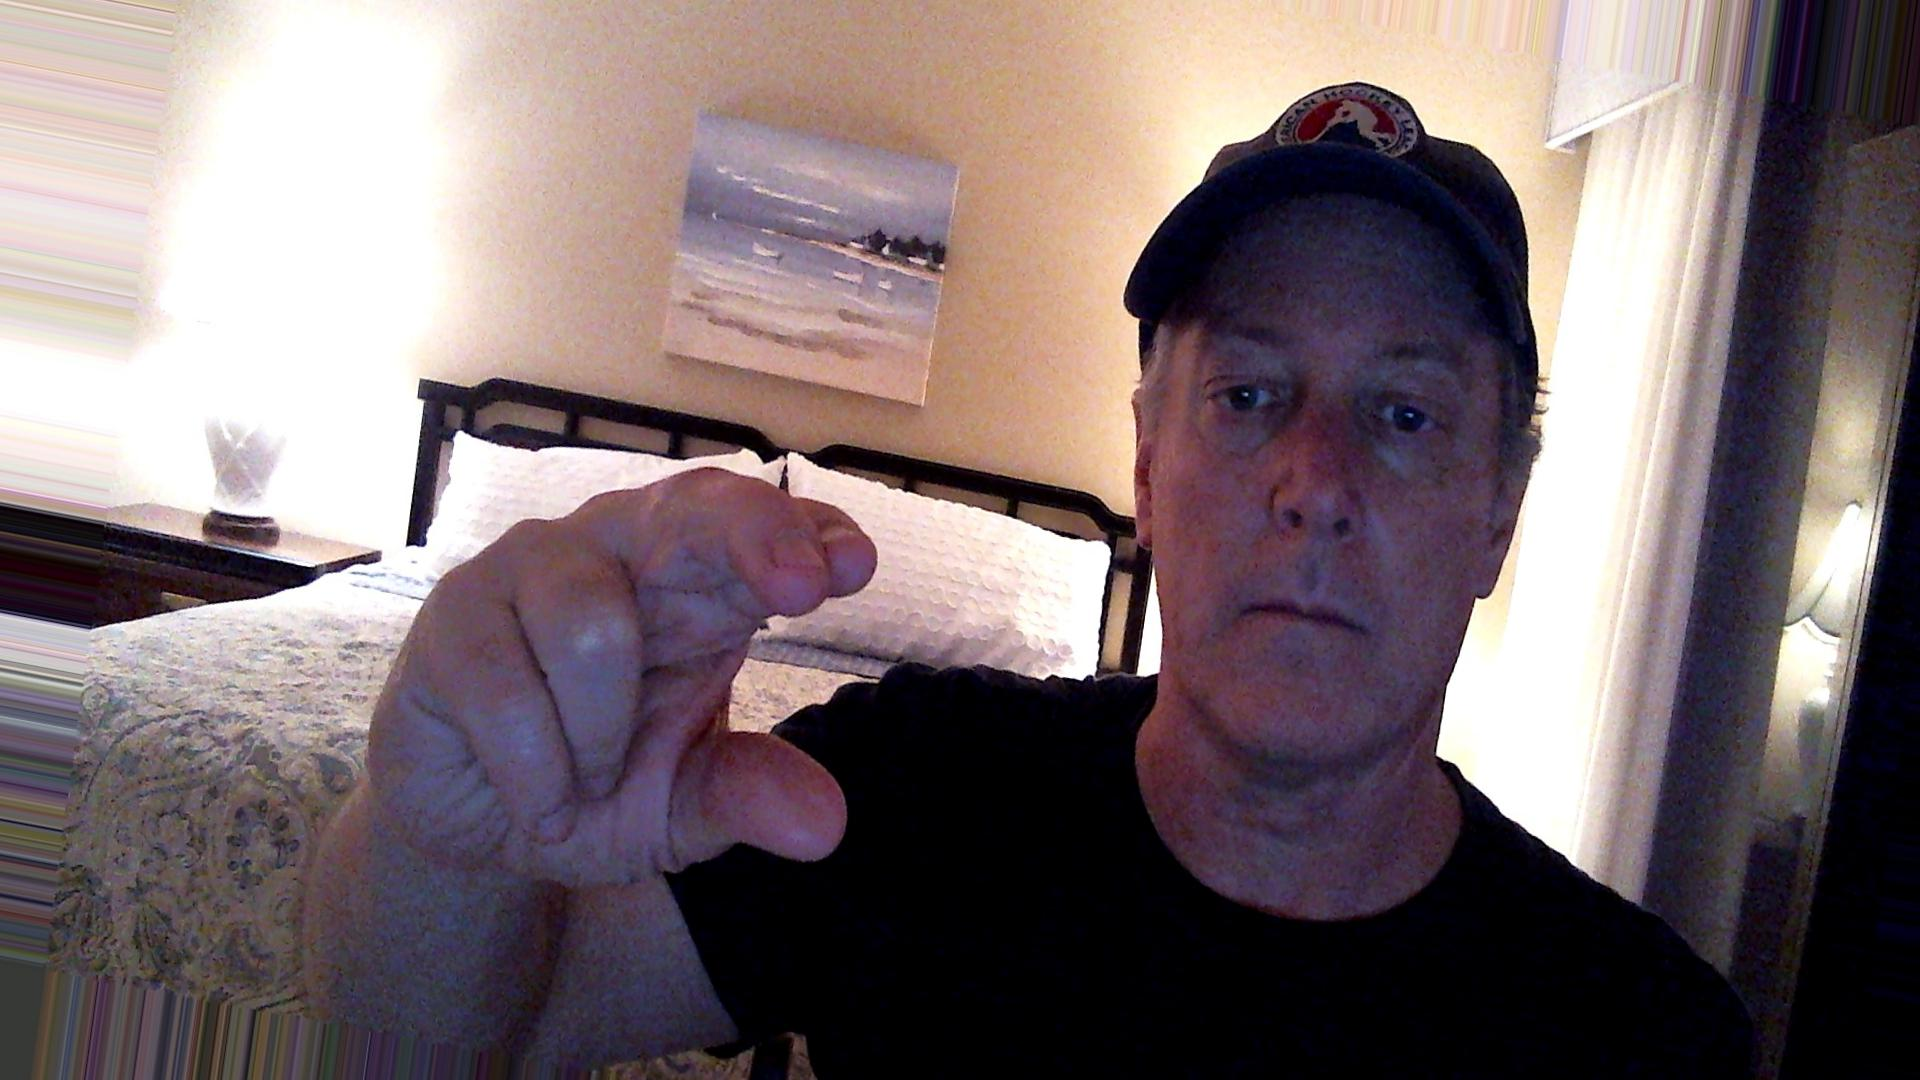No: (343, 440, 901, 891)
